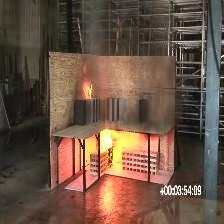fire: (78, 78, 126, 159)
